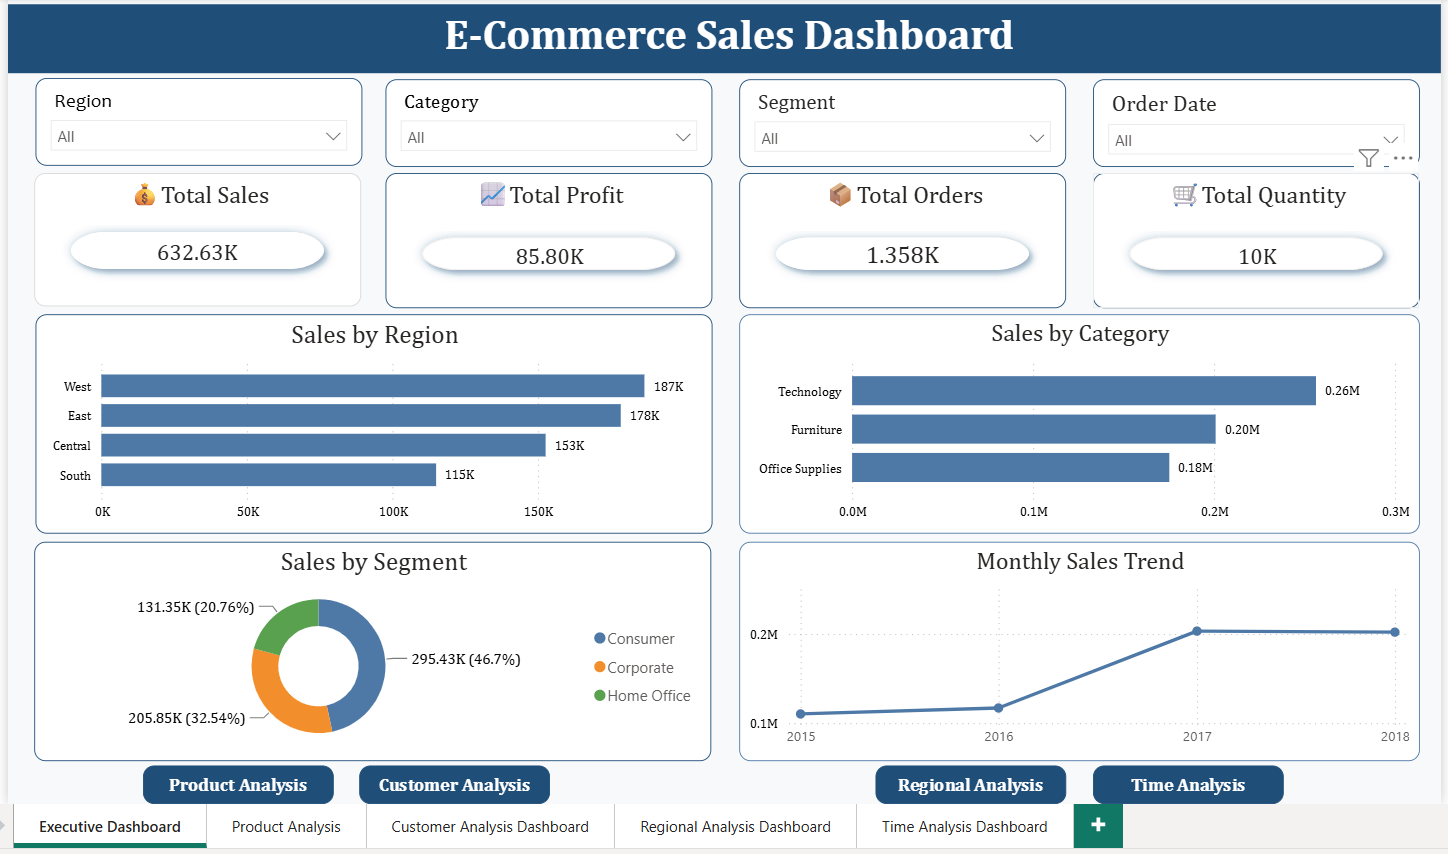

Layout of this report page (visuals, bound fields, positions):
{"tool":"powerbi","page":{"name":"Executive Dashboard","canvas":[1280,720],"ordinal":0},"visuals":[{"type":"textbox","box":[0,5.5,1280,61.7],"z":0},{"type":"slicer","fields":{"Values":["superstore_clean.Region"]},"box":[24.7,71.4,292.3,78.2],"z":1000},{"type":"slicer","fields":{"Values":["superstore_clean.Category"]},"box":[337.6,72.7,292.3,78.2],"z":2000},{"type":"slicer","fields":{"Values":["superstore_clean.Segment"]},"box":[653.2,72.7,292.3,78.2],"z":3000},{"type":"slicer","fields":{"Values":["superstore_clean.Order Date"]},"box":[968.8,72.7,292.3,78.2],"z":4000},{"type":"cardVisual","title":"💰Total Sales","fields":{"Data":["Sum(superstore_clean.Sales)"]},"box":[23.3,156.4,292.3,119.4],"z":5000},{"type":"cardVisual","title":"📈Total Profit","fields":{"Data":["Sum(superstore_clean.Profit)"]},"box":[337.6,156.4,292.3,120.8],"z":6000},{"type":"cardVisual","title":"🛒Total Quantity","fields":{"Data":["Sum(superstore_clean.Quantity)"]},"box":[968.8,156.4,292.3,120.8],"z":7000},{"type":"cardVisual","title":"📦Total Orders","fields":{"Data":["Count(superstore_clean.Order ID)"]},"box":[653.2,156.4,292.3,120.8],"z":8000},{"type":"clusteredBarChart","title":"Sales by Region","fields":{"Y":["Sum(superstore_clean.Sales)"],"Category":["superstore_clean.Region"]},"box":[24.7,282.7,605.1,196.2],"z":9000},{"type":"clusteredBarChart","title":"Sales by Category","fields":{"Category":["superstore_clean.Category"],"Y":["Sum(superstore_clean.Sales)"]},"box":[653.2,282.7,607.9,196.2],"z":10000},{"type":"donutChart","title":"Sales by Segment","fields":{"Category":["superstore_clean.Segment"],"Y":["Sum(superstore_clean.Sales)"]},"box":[23.3,485.8,605.1,196.2],"z":11000},{"type":"lineChart","title":"Monthly Sales Trend","fields":{"Category":["superstore_clean.Order Date.Variation.Date Hierarchy.Year","superstore_clean.Order Date.Variation.Date Hierarchy.Month"],"Y":["Sum(superstore_clean.Sales)"]},"box":[653.2,485.8,607.9,196.2],"z":12000},{"type":"actionButton","box":[120.8,686.1,170.2,34.3],"z":13000},{"type":"actionButton","box":[314.2,686.1,170.2,34.3],"z":14000},{"type":"actionButton","box":[775.3,686.1,170.2,34.3],"z":15000},{"type":"actionButton","box":[968.8,686.1,170.2,34.3],"z":16000}]}

Visuals, with their boxes on the page's 1280x720 design canvas (x1, y1, x2, y2). These are canvas units, not pixel positions in the 1448x854 screenshot, which may show the page scaled, cropped or inside an application window:
textbox: bbox=(0, 6, 1280, 67)
slicer - superstore_clean.Region: bbox=(25, 71, 317, 150)
slicer - superstore_clean.Category: bbox=(338, 73, 630, 151)
slicer - superstore_clean.Segment: bbox=(653, 73, 946, 151)
slicer - superstore_clean.Order Date: bbox=(969, 73, 1261, 151)
"💰Total Sales" cardVisual: bbox=(23, 156, 316, 276)
"📈Total Profit" cardVisual: bbox=(338, 156, 630, 277)
"🛒Total Quantity" cardVisual: bbox=(969, 156, 1261, 277)
"📦Total Orders" cardVisual: bbox=(653, 156, 946, 277)
"Sales by Region" clusteredBarChart: bbox=(25, 283, 630, 479)
"Sales by Category" clusteredBarChart: bbox=(653, 283, 1261, 479)
"Sales by Segment" donutChart: bbox=(23, 486, 628, 682)
"Monthly Sales Trend" lineChart: bbox=(653, 486, 1261, 682)
actionButton: bbox=(121, 686, 291, 720)
actionButton: bbox=(314, 686, 484, 720)
actionButton: bbox=(775, 686, 946, 720)
actionButton: bbox=(969, 686, 1139, 720)
